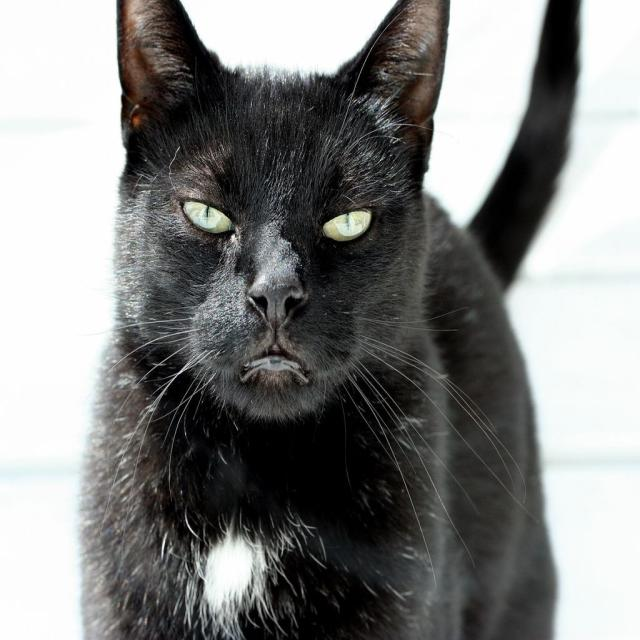Cat: (76, 0, 585, 639)
